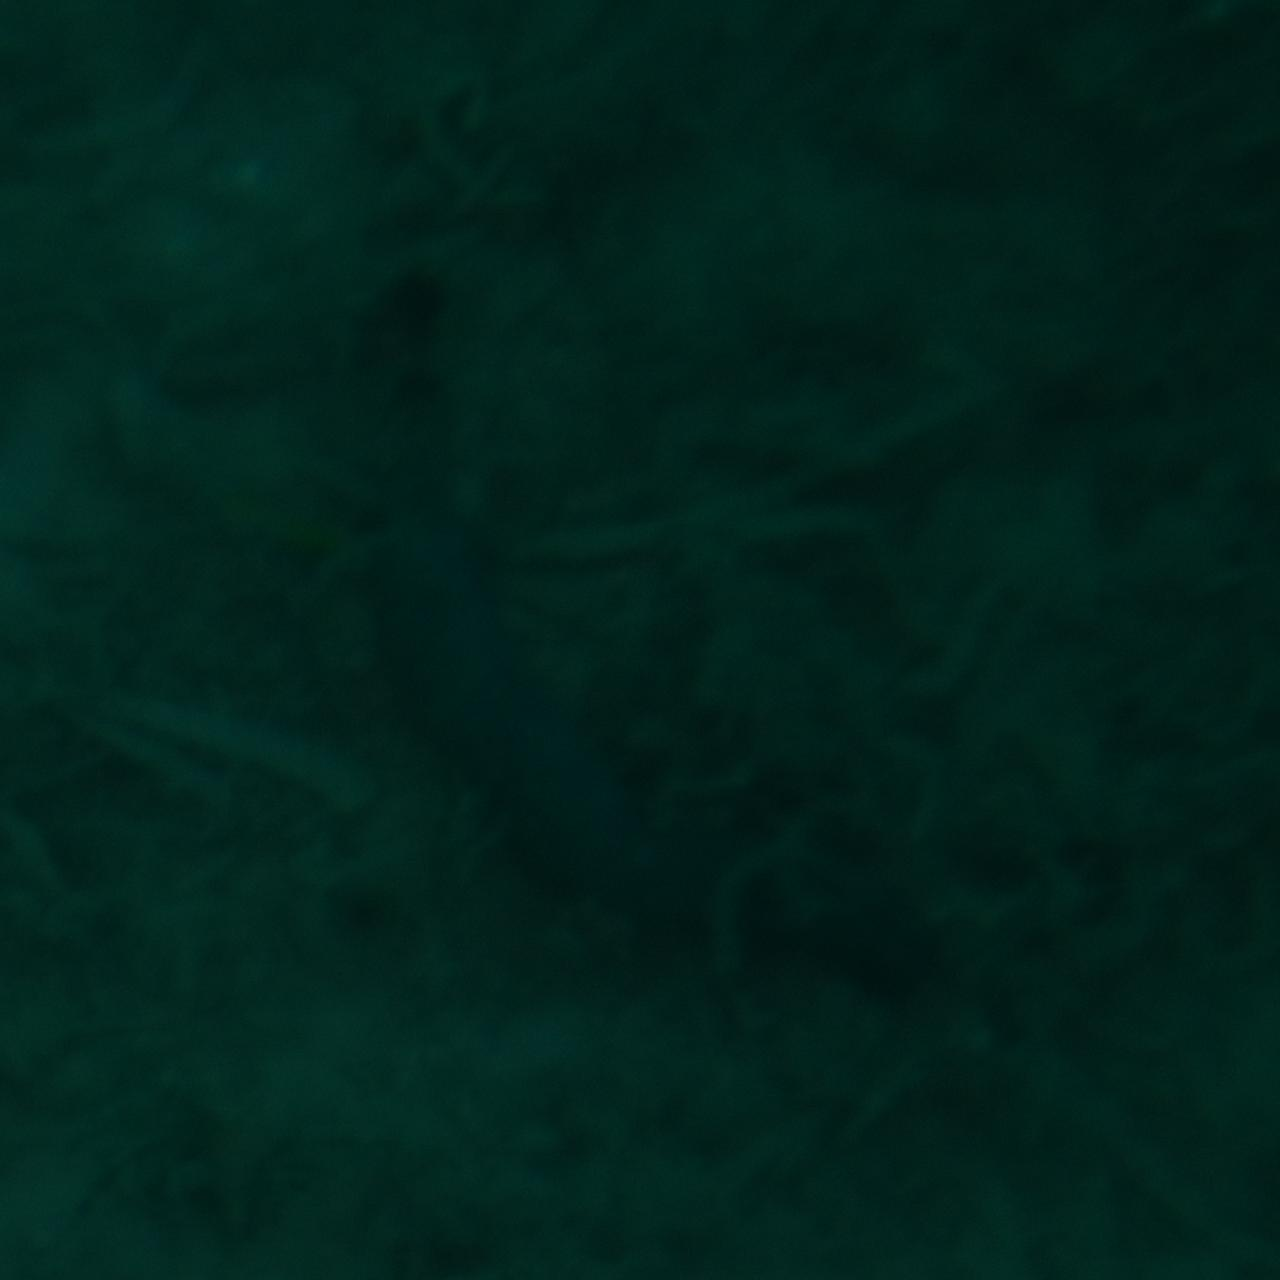Holothuria tubulosa: (333, 266, 947, 1014)
